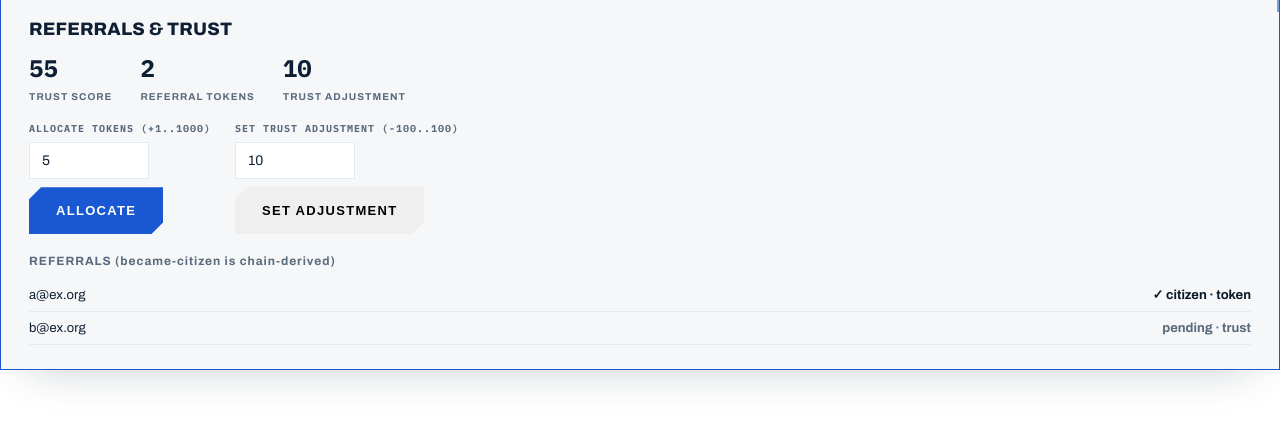
AdminReferralPanel › surfaces a POST error
This screenshot has width=1280, height=437.
Click the button with test id "alloc-submit" at (96, 211), box [29,187,163,234]
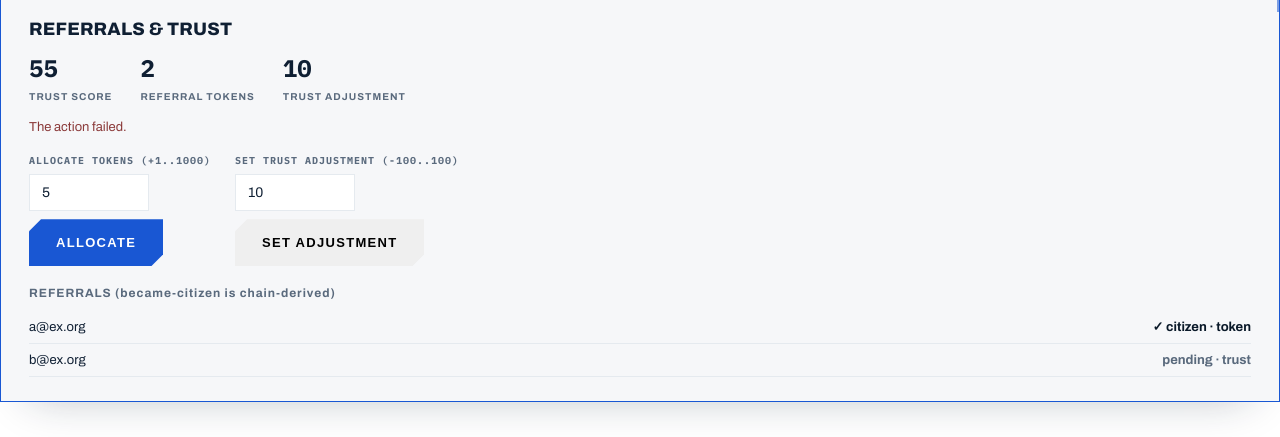
Check: the message with test id "admin-referral-action-error" shows "failed", box [29,120,127,134]
